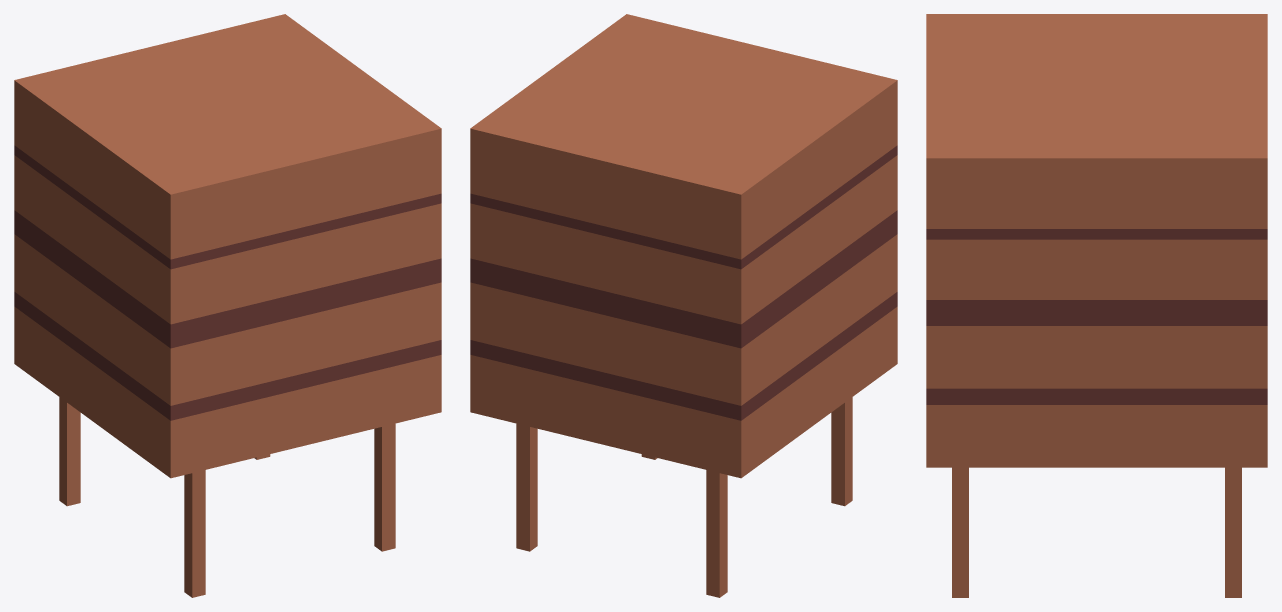
The model's file is object_beehive_handmade.glb.
3 renders of one model, left to right at view 1: azimuth 30°, elevation 25°; view 2: azimuth 150°, elevation 25°; view 3: azimuth 270°, elevation 25°, orthographic. The views are drawn at different scales.
Visible parts, largest first — view 1: beehive_handmade; view 2: beehive_handmade; view 3: beehive_handmade.
Boxes of the visible parts, x1,y1,x2,y2 form: beehive_handmade: (14,14,441,597); beehive_handmade: (470,14,897,597); beehive_handmade: (926,14,1267,597).
Size of the model in its own units: 0.5 by 0.7402 by 0.5.
